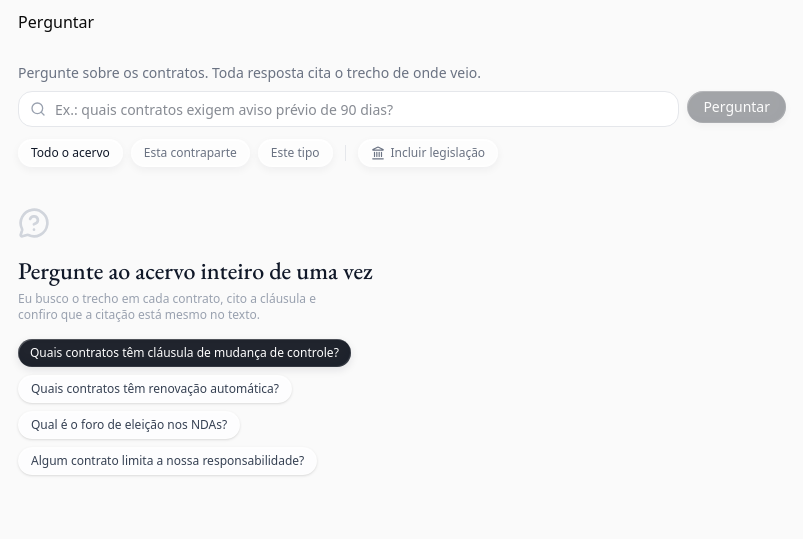
Test: Perguntar › says exactly 'Não encontrei na base.' when nothing was verified
The image size is (803, 539).
In the field labelled "Pergunte sobre os contratos": (349, 109) [18, 91, 679, 127], type "foro"
Then press Enter
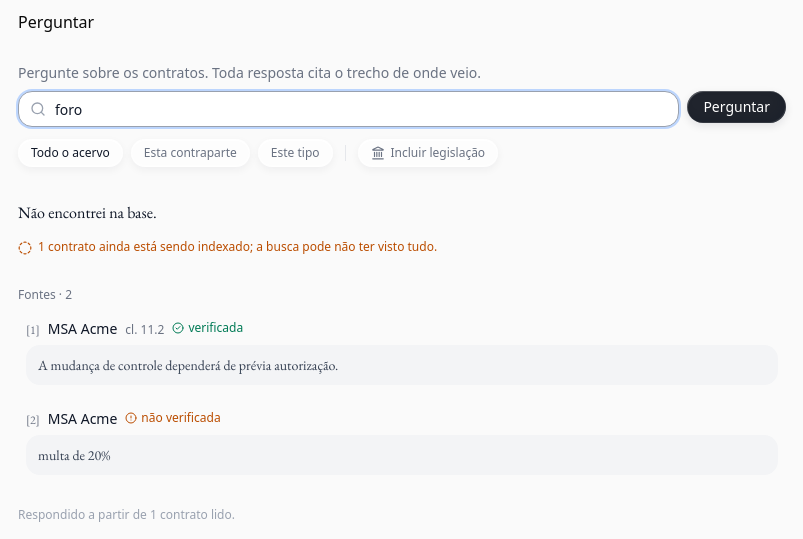
Expected: the text "Não encontrei na base." is shown, [18, 202, 157, 223]
